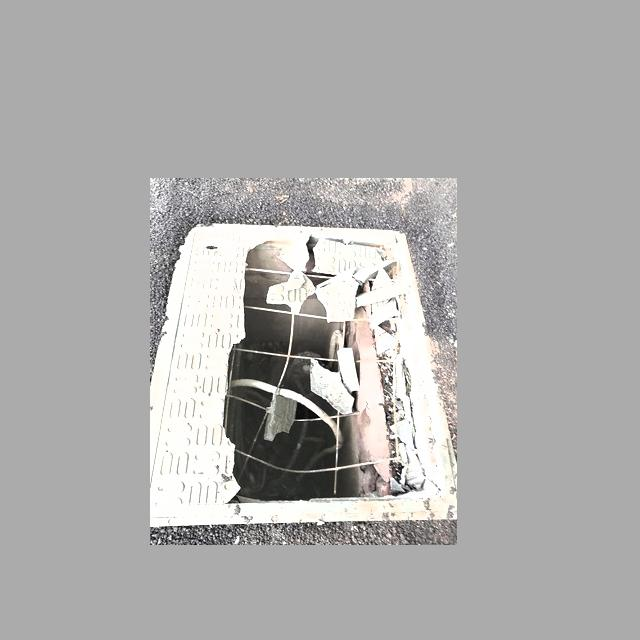broke: (153, 212, 450, 533)
